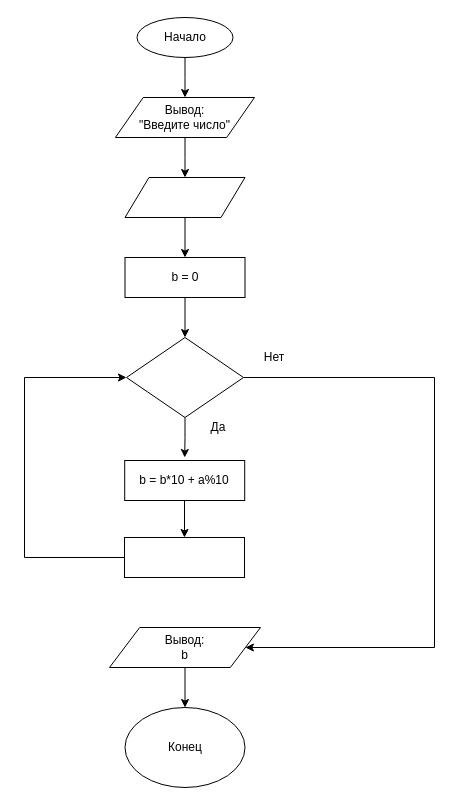
The diagram is 460 pixels wide and 805 high, and some of its shapes have lost their labels. Here are the shapes that lost their labels. From the top down, the centre of each, then its label:
At pixel 184 197: "Ввод: a;".
At pixel 185 377: "While a > 0".
At pixel 184 557: "a = a // 10".
